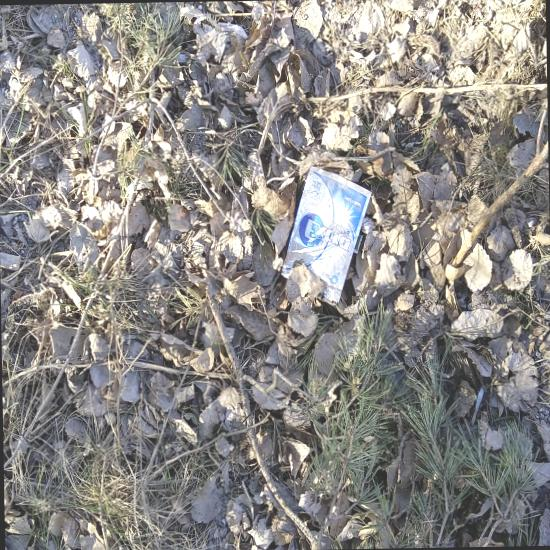Cigarette: (533, 231, 540, 310), (417, 488, 433, 517), (441, 456, 463, 474), (488, 52, 500, 82), (491, 286, 500, 313), (416, 527, 431, 539)
Other plastic bottle: (129, 508, 141, 544), (472, 435, 486, 464), (303, 340, 315, 357), (119, 118, 130, 132), (131, 156, 138, 162), (401, 515, 405, 523), (151, 316, 156, 322), (354, 348, 358, 353), (193, 383, 196, 389), (288, 392, 291, 398)
Unlabeled litter: (304, 284, 340, 321)
